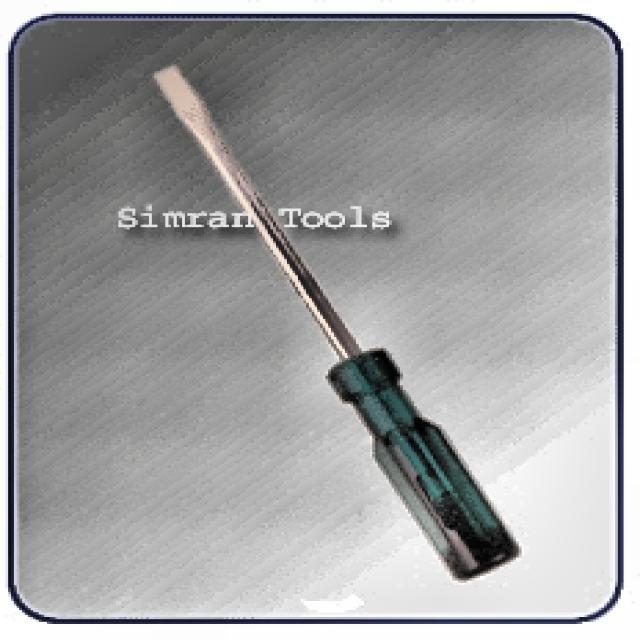screwdriver: (159, 68, 516, 582)
